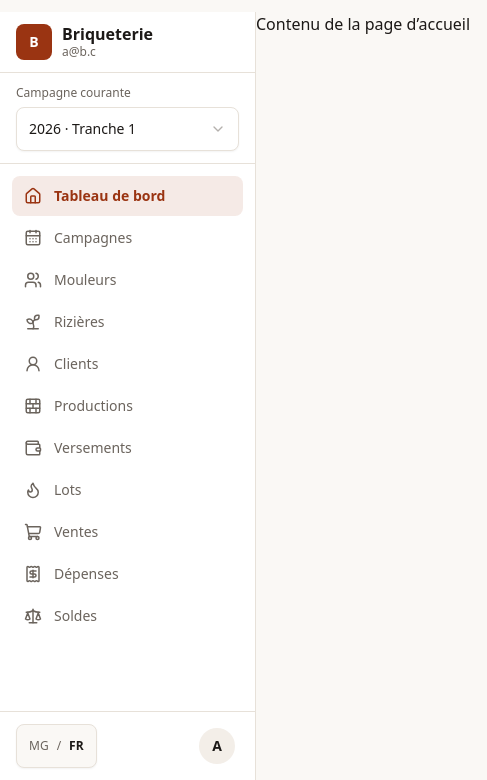
Test: AppShell › from 1024 pixels › puts the campaign, every section and the account in a sidebar, no bottom bar
Expected: the text "Contenu de la page d’accueil" is shown, [256, 13, 470, 35]
Expected: the text "a@b.c" is shown, [62, 43, 96, 60]
Click the link "Ventes": (61, 532) [24, 522, 98, 541]
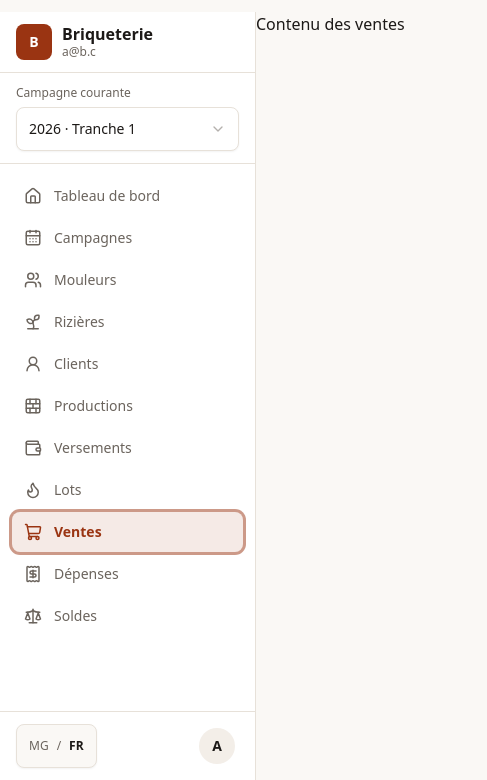
Expected: the text "Contenu des ventes" is shown, [256, 13, 405, 35]
